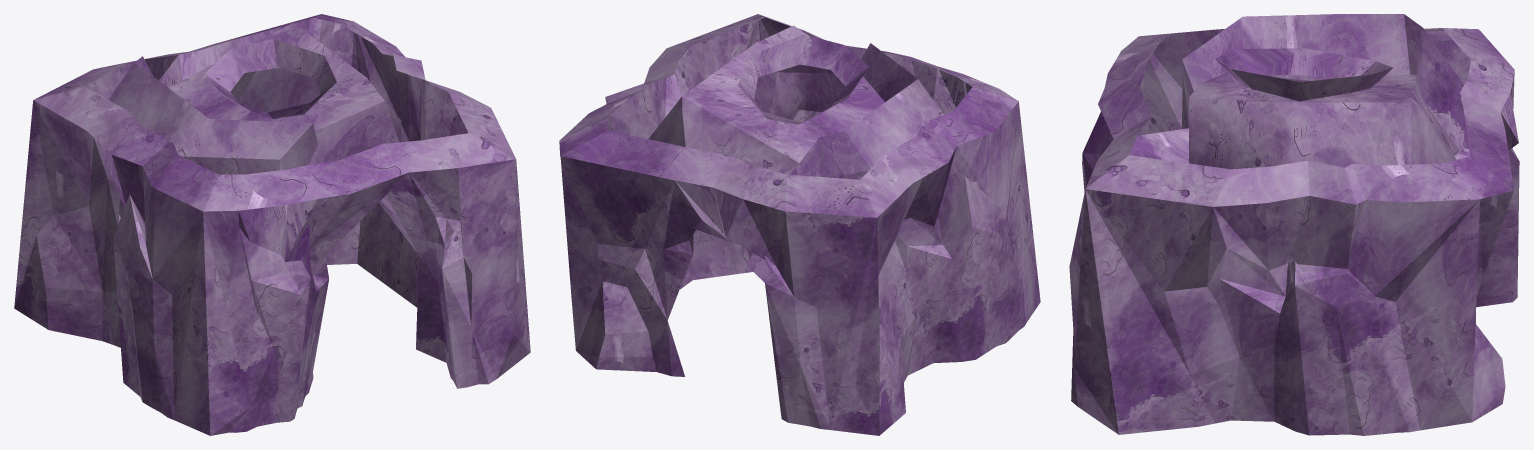
The model's file is Floating_Island_04_Art.fbx.
3 views of the same model, side by side, from view 1: azimuth 30°, elevation 25°; view 2: azimuth 150°, elevation 25°; view 3: azimuth 270°, elevation 25° (orthographic). The views are drawn at different scales.
Parts seen in each view (by area): view 1: Floating_Island_4; view 2: Floating_Island_4; view 3: Floating_Island_4.
Part boxes in pixels (x1=…): Floating_Island_4: x1=14, y1=14, x2=530, y2=435; Floating_Island_4: x1=559, y1=14, x2=1040, y2=435; Floating_Island_4: x1=1069, y1=14, x2=1519, y2=435.
Size of what is drawn, in the model's own units: 1533 by 1121 by 1574.
